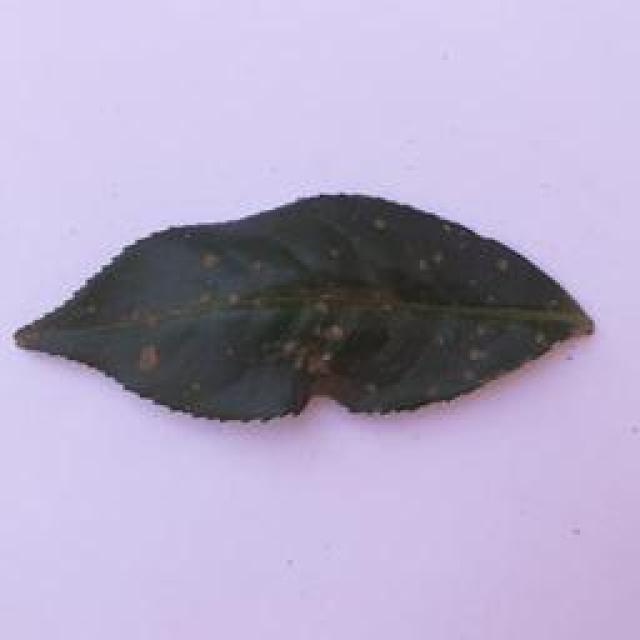Algal Leaf Spot: (22, 185, 610, 444)
